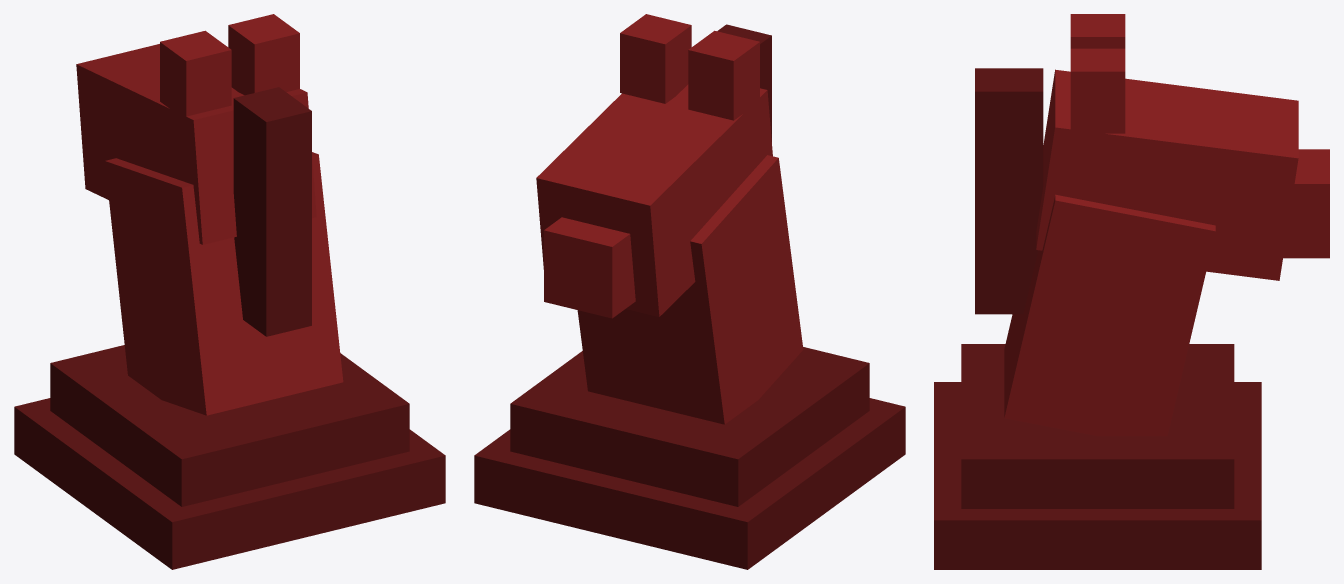
Rendered from knight.gltf.
The picture shows the model from 3 angles, left to right: view 1: azimuth 30°, elevation 25°; view 2: azimuth 150°, elevation 25°; view 3: azimuth 270°, elevation 25°; orthographic projection. The views are drawn at different scales.
Visible parts, largest first — view 1: neck, foot, base, mane, head, ear_l, ear_r; view 2: neck, foot, head, base, muzzle, ear_l, ear_r, mane; view 3: neck, head, foot, base, mane, ear_r, muzzle, ear_l.
Part boxes in pixels (x1,y1,x2,y2): neck: (105, 152, 343, 415); foot: (50, 345, 409, 506); base: (14, 398, 445, 569); mane: (233, 87, 311, 336); head: (76, 44, 316, 244); ear_l: (160, 30, 231, 119); ear_r: (228, 14, 299, 95); neck: (577, 155, 803, 424); foot: (510, 347, 869, 506); head: (536, 84, 772, 316); base: (474, 398, 905, 569); muzzle: (544, 217, 635, 318); ear_l: (688, 30, 759, 120); ear_r: (620, 14, 691, 103); mane: (717, 24, 771, 141); neck: (1004, 194, 1215, 436); head: (1036, 69, 1298, 280); foot: (961, 344, 1234, 508); base: (934, 382, 1261, 569); mane: (975, 68, 1043, 314); ear_r: (1070, 48, 1125, 133); muzzle: (1283, 149, 1329, 258); ear_l: (1070, 14, 1125, 48).
Size of the model in its own units: 0.75 by 1.16 by 0.9062.
Materials: 2 (2 with a texture image).
